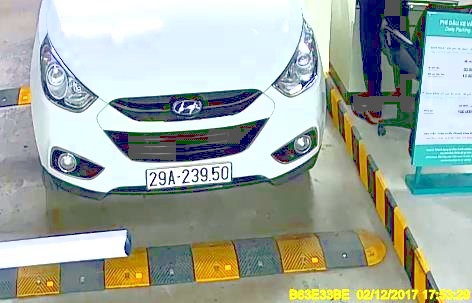plate: (142, 163, 236, 188)
